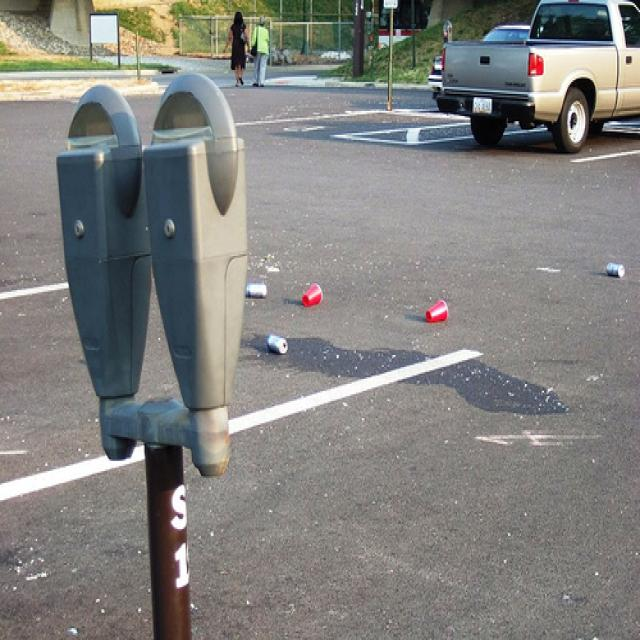Vehicle: (436, 2, 640, 157), (429, 4, 640, 148), (428, 26, 531, 105), (272, 48, 285, 66)
